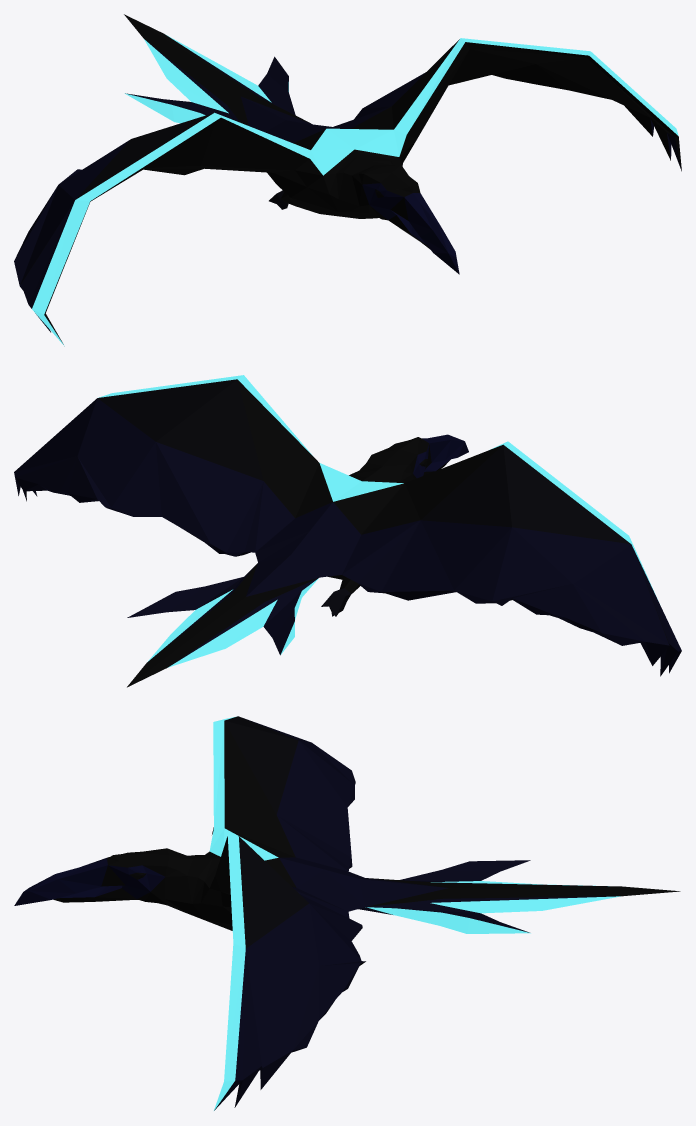
File: bird.glb
3 renders of one model, top to bottom at view 1: azimuth 30°, elevation 25°; view 2: azimuth 150°, elevation 25°; view 3: azimuth 270°, elevation 25°, orthographic. The views are drawn at different scales.
Parts seen in each view (by area): view 1: Object_0; view 2: Object_0; view 3: Object_0.
Part boxes in pixels (bbox=[...]): Object_0: bbox=[14, 14, 681, 346]; Object_0: bbox=[14, 375, 681, 687]; Object_0: bbox=[14, 716, 680, 1110].
Size of the model in its own units: 3.83 by 1.13 by 3.45.
